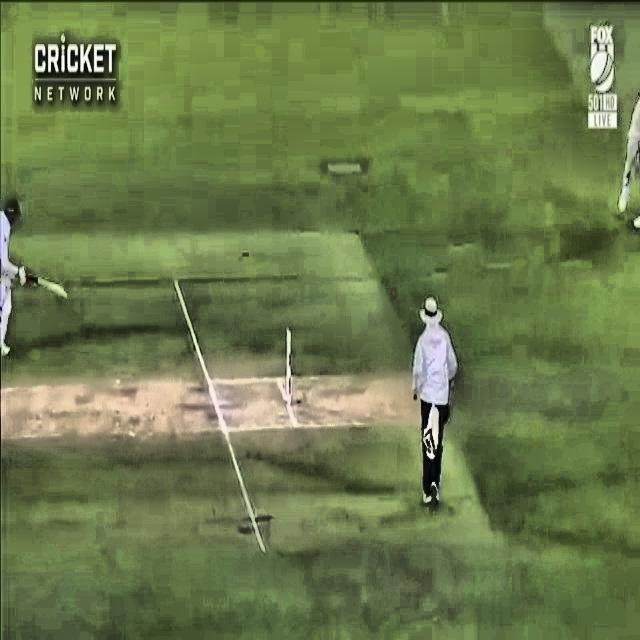Bat: (5, 263, 69, 302)
Pitch_Line: (168, 280, 269, 553)
Undis_Wicket: (278, 320, 304, 416)
